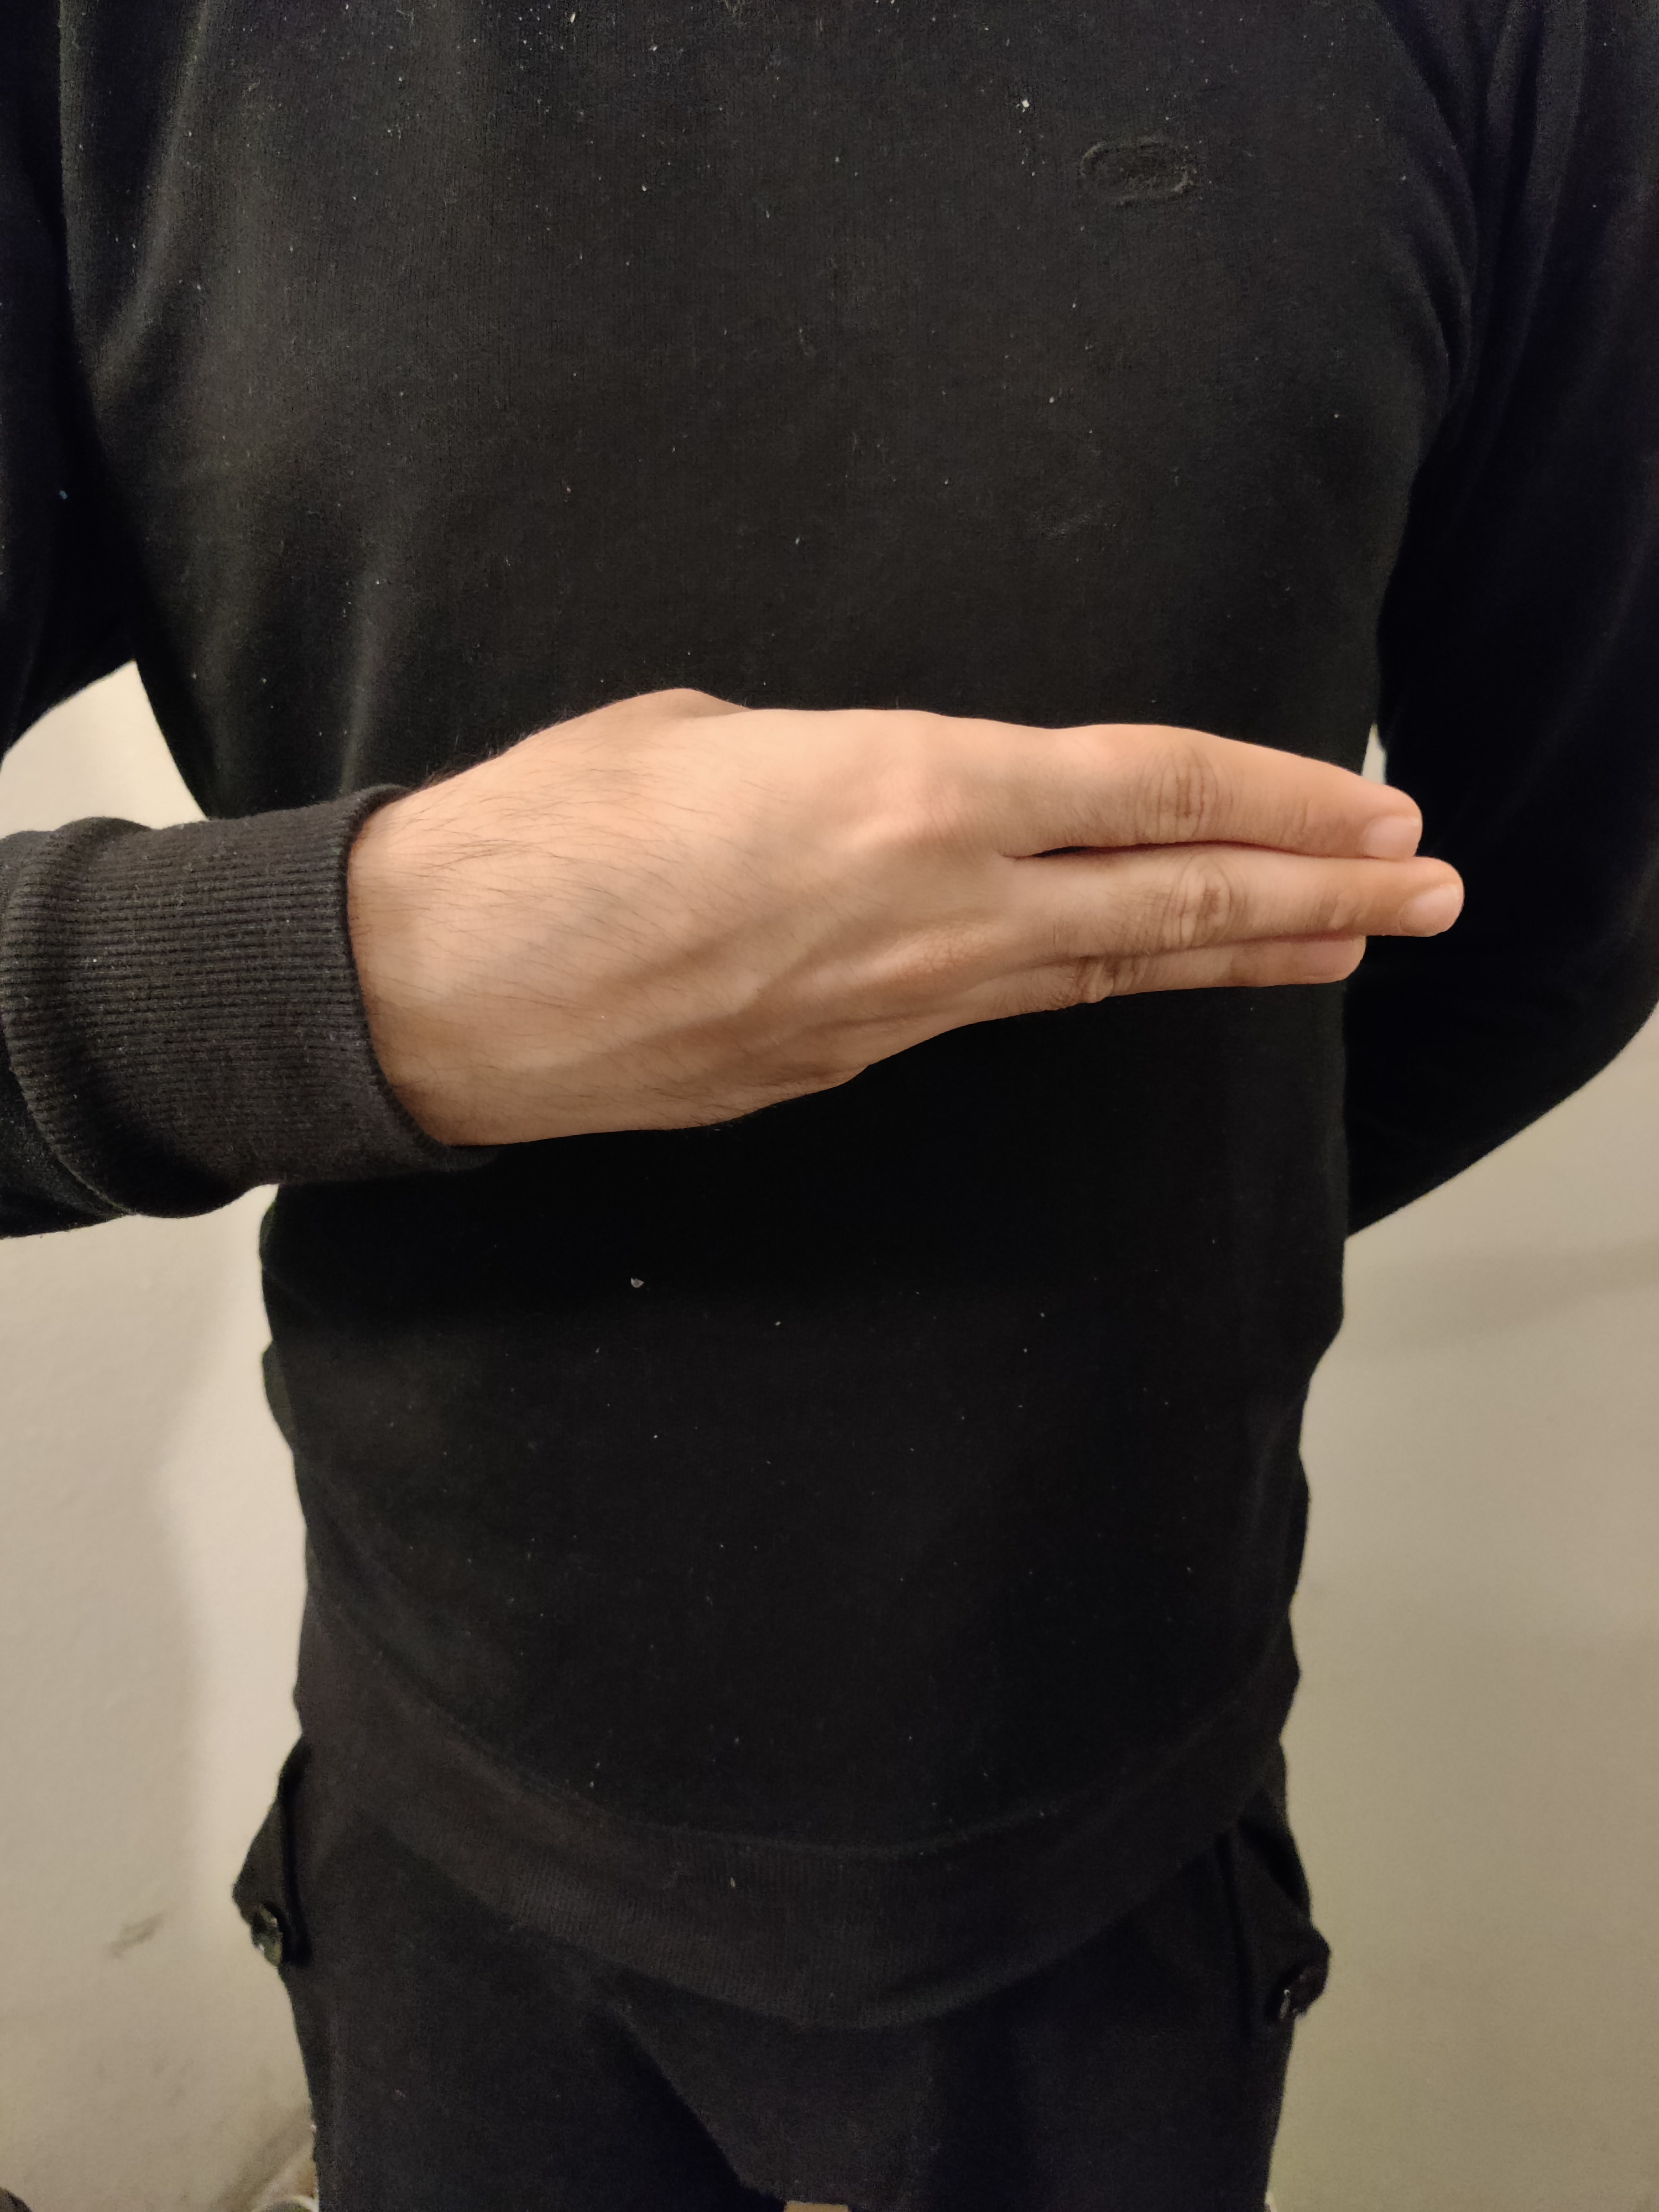left: (99, 455, 1549, 1238)
